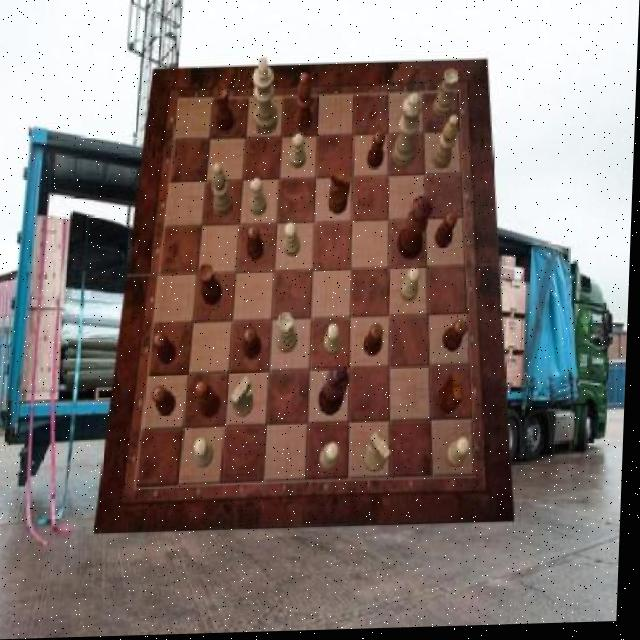bishop: (295, 74, 314, 133), (200, 382, 225, 420)
black-bishop: (322, 369, 353, 417)
black-king: (329, 170, 353, 217), (441, 374, 467, 417)
black-knight: (437, 215, 461, 252), (155, 334, 180, 367), (445, 323, 470, 356), (155, 386, 180, 418), (247, 226, 266, 263), (366, 326, 386, 361), (246, 330, 267, 363), (369, 133, 387, 171)
black-pawn: (400, 197, 434, 262)
black-queen: (200, 264, 226, 307), (214, 87, 237, 135)
black-rook: (435, 118, 461, 173), (212, 165, 236, 219)
white-bishop: (251, 58, 281, 136)
white-king: (367, 435, 396, 476), (234, 377, 258, 419)
white-knight: (449, 439, 474, 471), (403, 269, 423, 304), (251, 180, 269, 218), (197, 439, 218, 471), (292, 134, 310, 171), (286, 224, 304, 258), (327, 325, 345, 358), (323, 445, 344, 473)
white-pawn: (393, 95, 425, 170)
white-queen: (435, 72, 460, 122), (280, 314, 302, 356)
